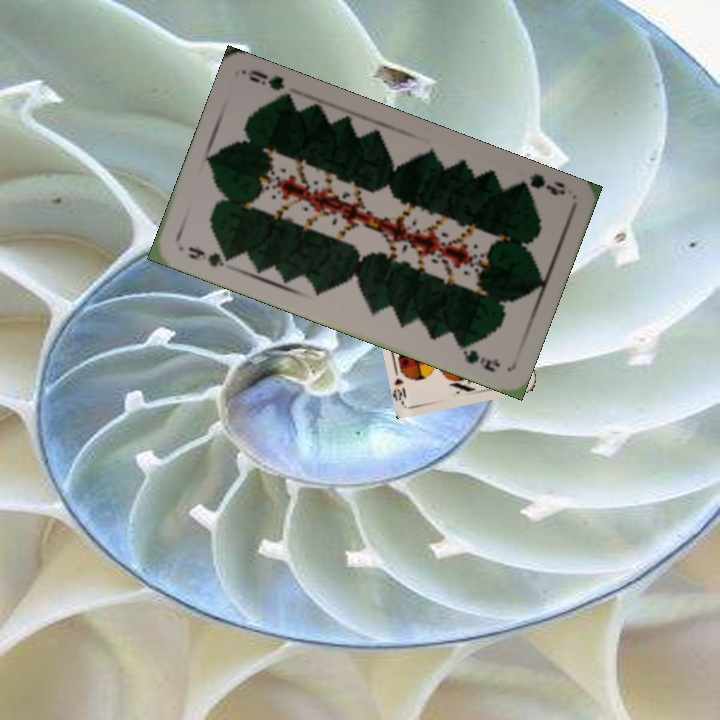G9: (511, 169, 568, 198), (184, 242, 237, 270)
